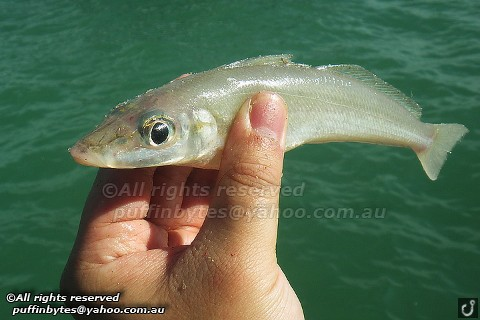kiss: (66, 49, 469, 189)
